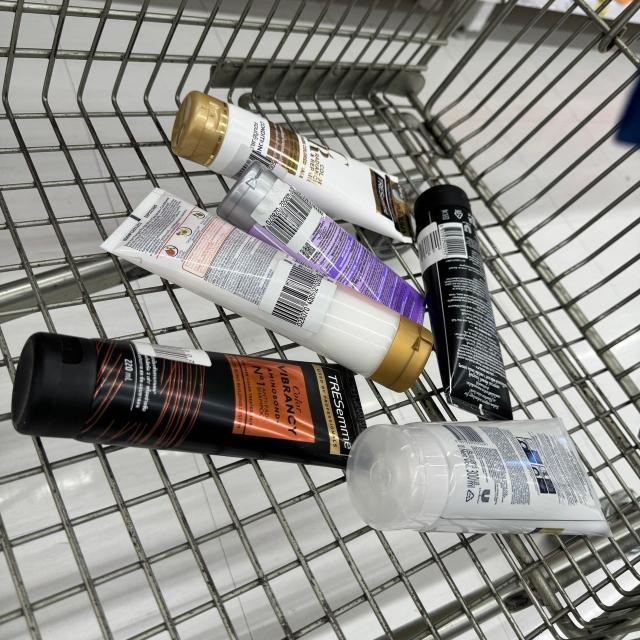Squeeze Tube: (89, 172, 448, 408), (3, 329, 379, 475), (207, 146, 440, 353), (163, 76, 419, 256), (363, 407, 624, 540), (404, 182, 531, 432)
